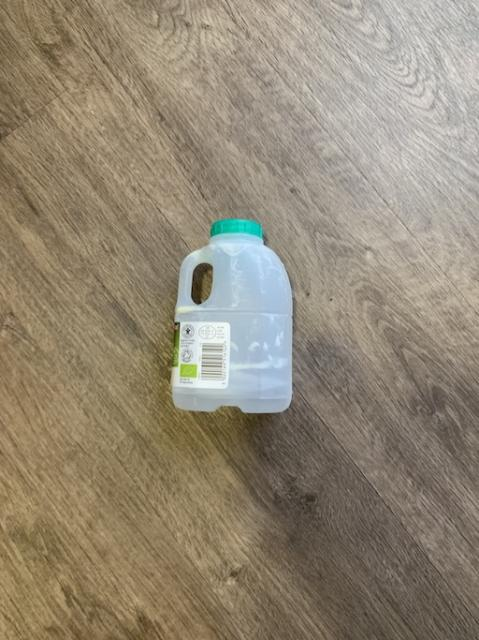plastic: (171, 218, 290, 411)
